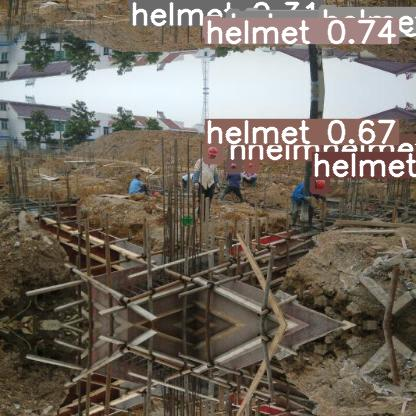helmet: (205, 144, 220, 161), (205, 18, 219, 36), (312, 177, 327, 191), (321, 160, 334, 173), (321, 7, 334, 20), (228, 160, 239, 171), (246, 160, 256, 170), (247, 10, 256, 19), (229, 11, 238, 20), (130, 0, 144, 5)
